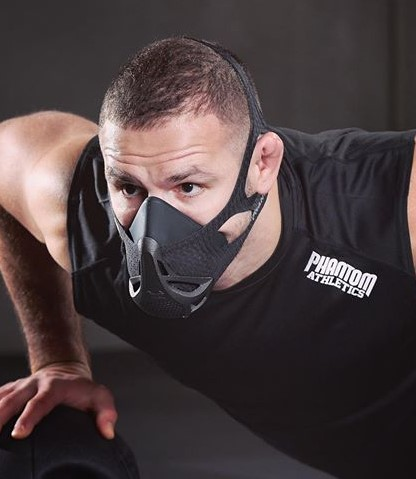face_with_mask: (94, 43, 282, 321)
